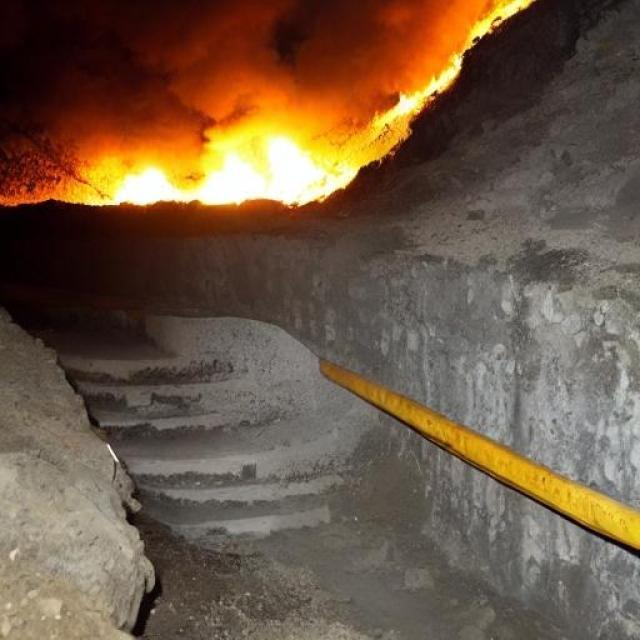Fire: (19, 128, 372, 208), (368, 0, 530, 128)
Smoke: (59, 1, 430, 124)
